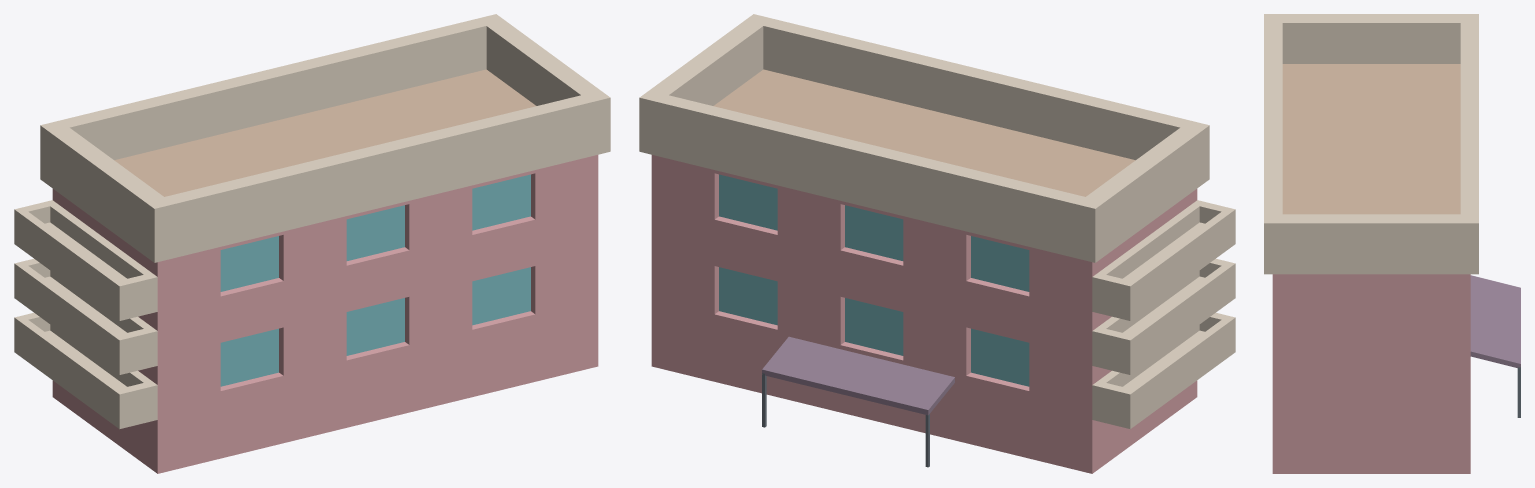
File: house_5.fbx
3 renders of one model, left to right at view 1: azimuth 30°, elevation 25°; view 2: azimuth 150°, elevation 25°; view 3: azimuth 270°, elevation 25°, orthographic. The views are drawn at different scales.
Visible parts, largest first — view 1: polySurface286; view 2: polySurface286; view 3: polySurface286.
Boxes of the visible parts, box(x1,y1,x2,y2) form: polySurface286: box(14, 14, 610, 473); polySurface286: box(639, 14, 1235, 473); polySurface286: box(1264, 14, 1520, 473).
Size of the model in its own units: 40.53 by 19.69 by 22.61.
